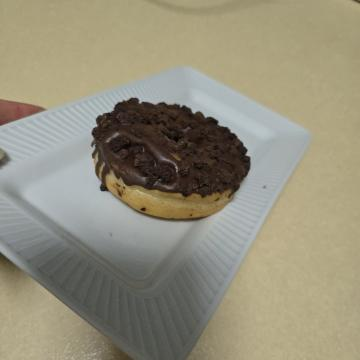doughnut: (83, 100, 228, 278)
